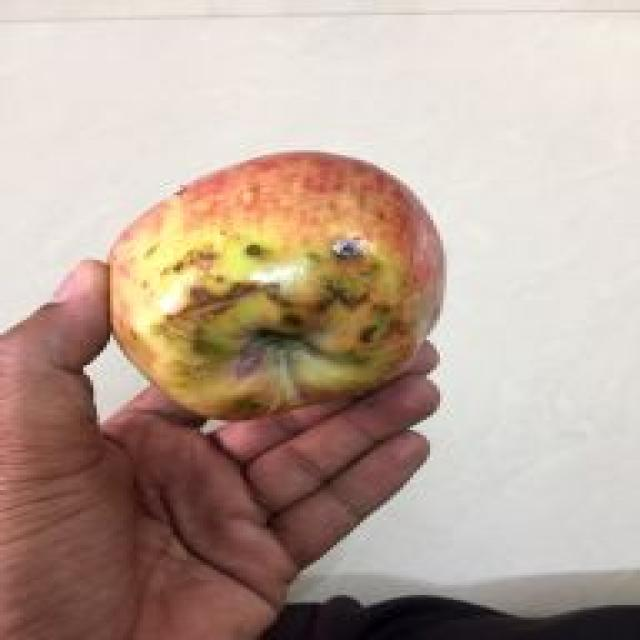Bad_Apple: (112, 152, 438, 418)
